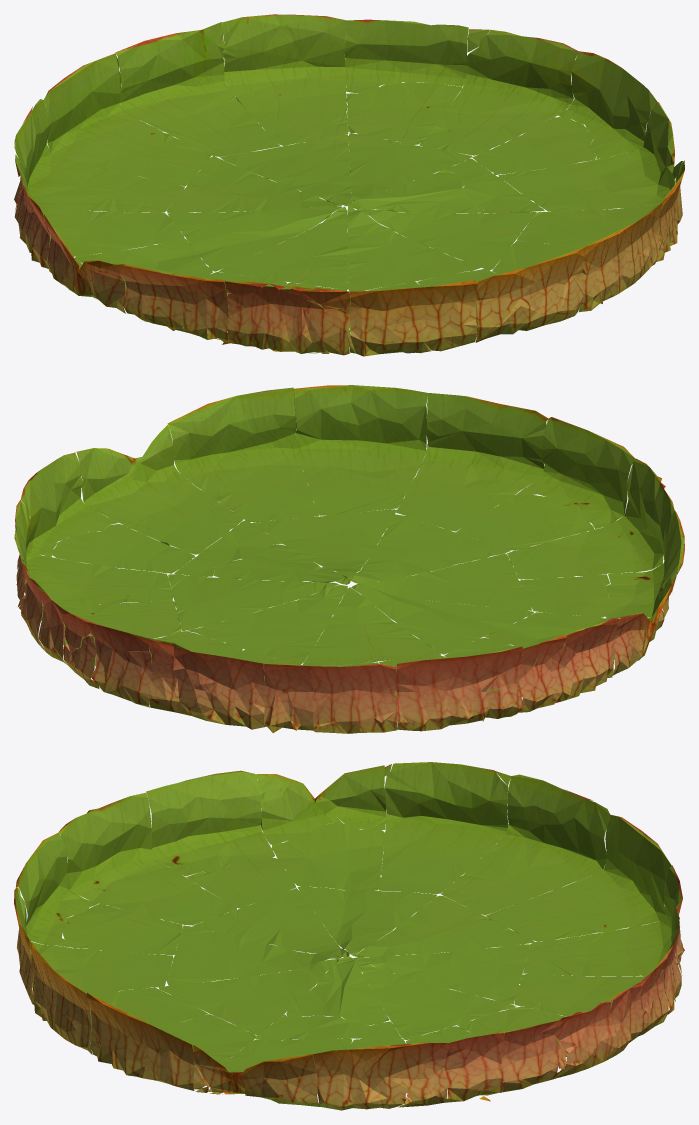
The model's file is irupe.glb.
3 views of the same model, one above another, from view 1: azimuth 30°, elevation 25°; view 2: azimuth 150°, elevation 25°; view 3: azimuth 270°, elevation 25° (orthographic).
Parts seen in each view (by area): view 1: tripo_node_f3ca1272-7624-44c0-9e5b-0eb78531ca6a; view 2: tripo_node_f3ca1272-7624-44c0-9e5b-0eb78531ca6a; view 3: tripo_node_f3ca1272-7624-44c0-9e5b-0eb78531ca6a.
Boxes of the visible parts, x1=… form: tripo_node_f3ca1272-7624-44c0-9e5b-0eb78531ca6a: x1=14, y1=14, x2=684, y2=356; tripo_node_f3ca1272-7624-44c0-9e5b-0eb78531ca6a: x1=14, y1=385, x2=684, y2=733; tripo_node_f3ca1272-7624-44c0-9e5b-0eb78531ca6a: x1=14, y1=762, x2=684, y2=1110.
Size of the model in its own units: 1 by 0.1217 by 0.9829.
1 material, 1 textured.
